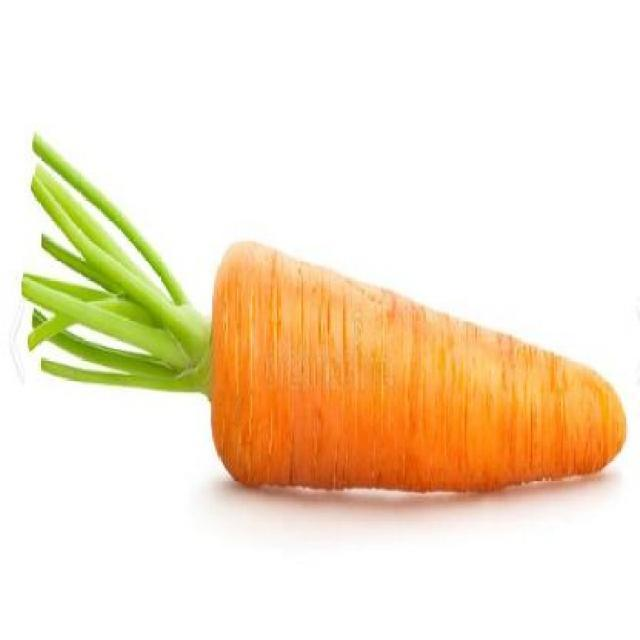carrot: (193, 186, 624, 568)
